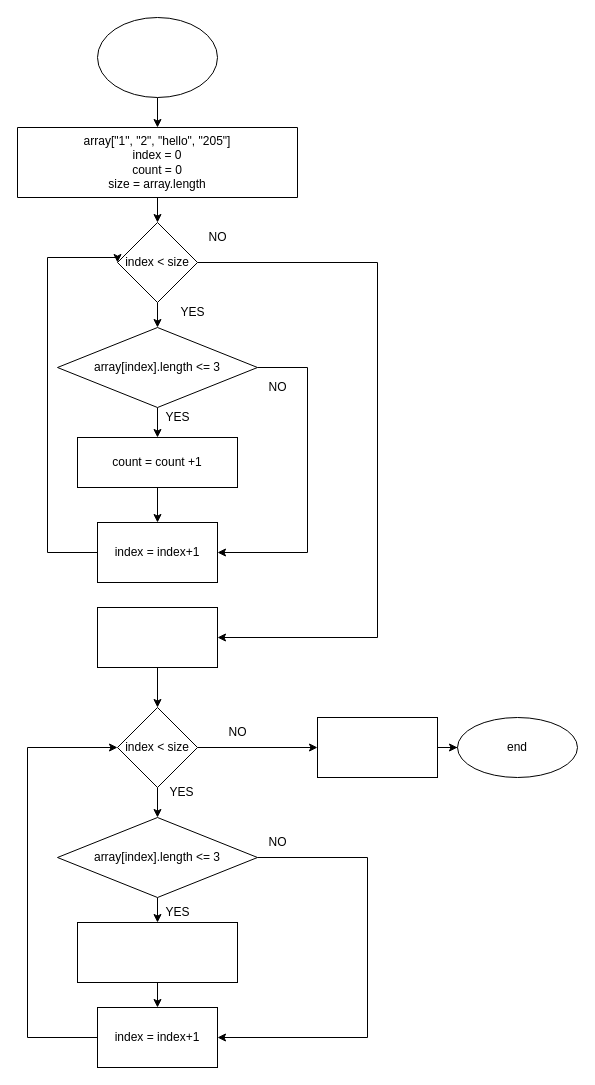
Some shapes in this 595 by 1085 pixel diagram are drawn without their labels. The shapes that lost their labels are listed below. From the top down, each one's centre as x and y in pixels, then its label:
the point at 157,57: start
the point at 157,637: f_array = new[count] index = 0
the point at 377,747: print(f_array)
the point at 157,952: count = count -1 f_array[count] = array[index]
